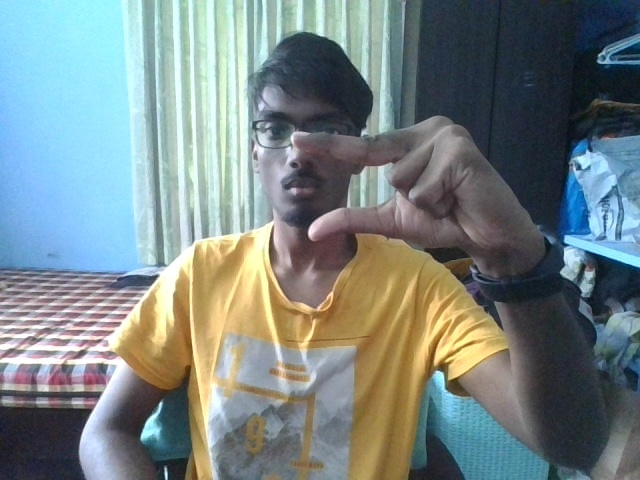No: (288, 106, 495, 261)
